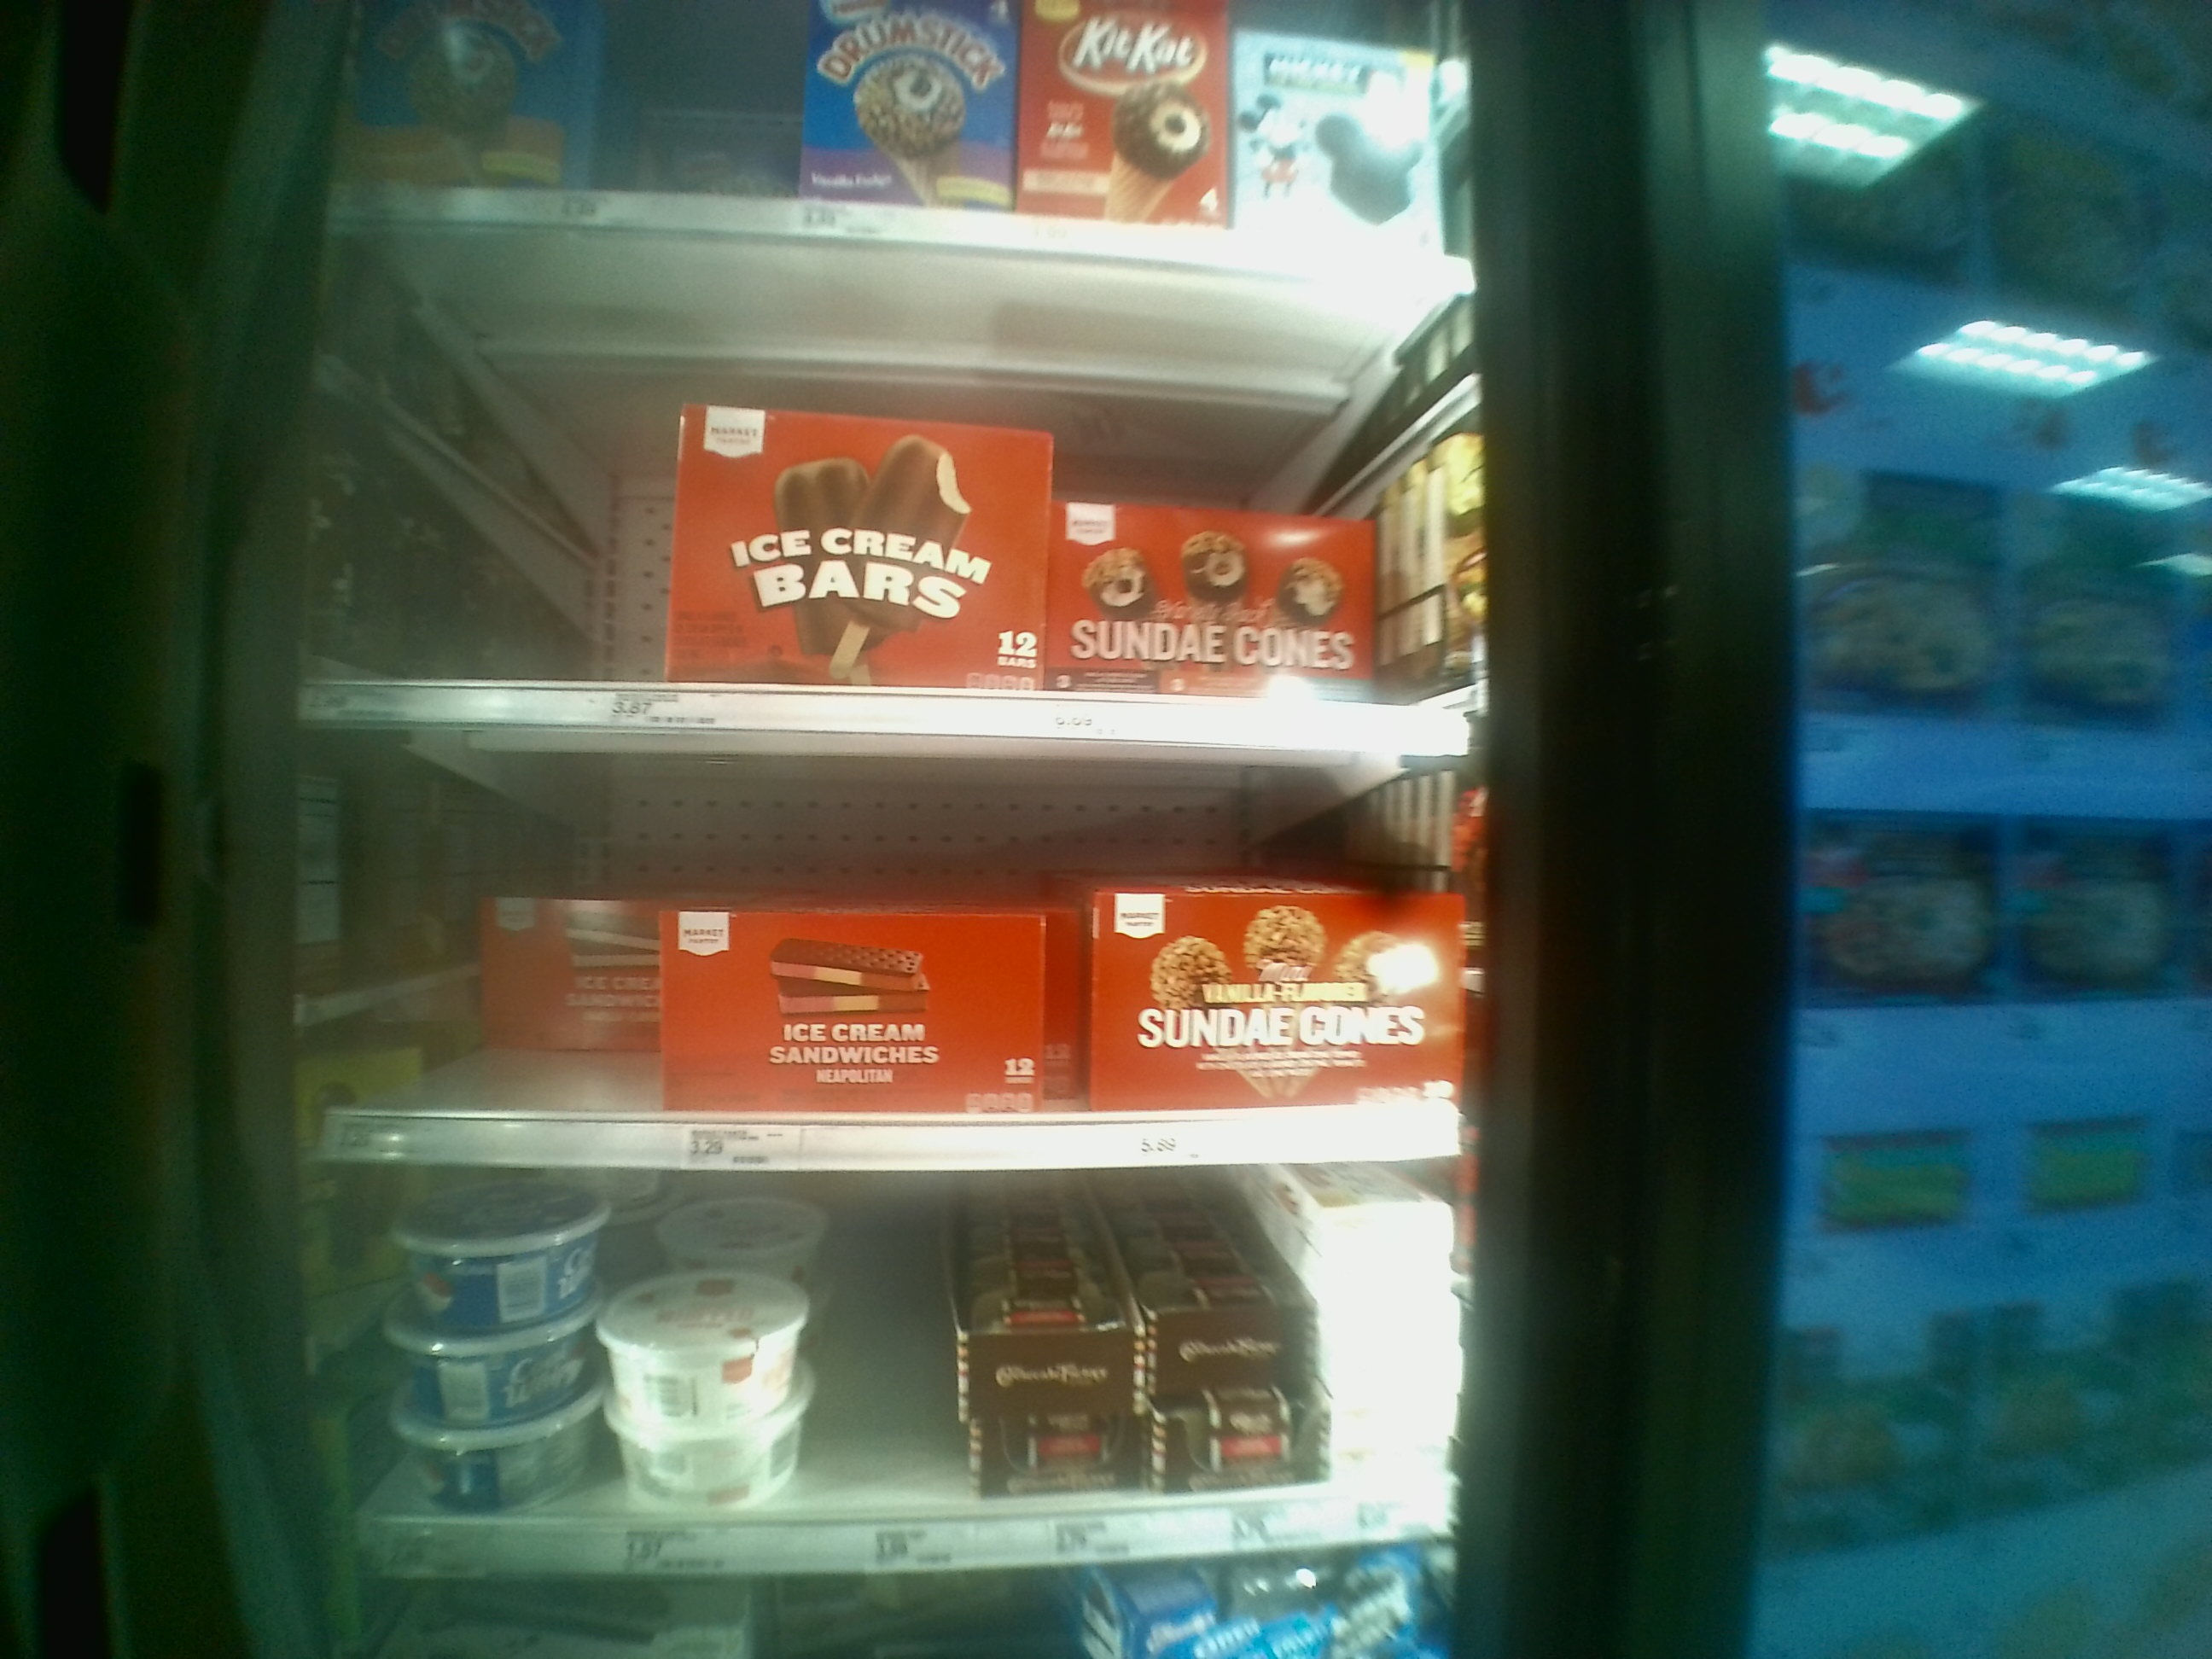shelf: (314, 265, 1477, 748), (322, 765, 1467, 1166)
